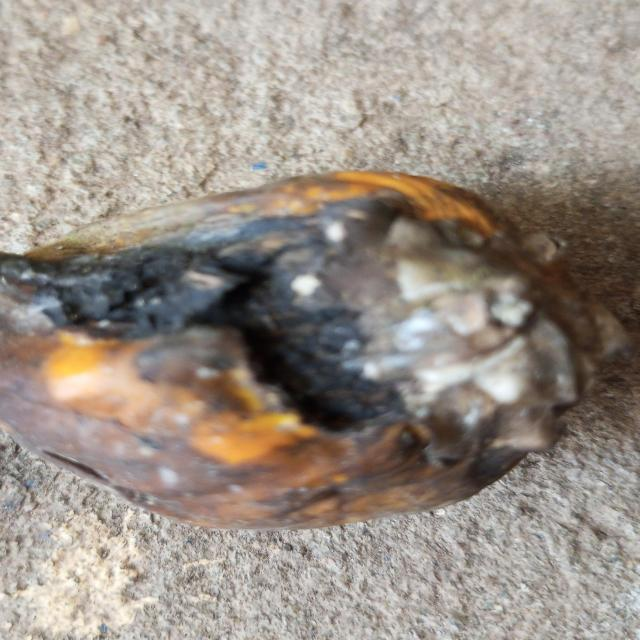damaged: (0, 172, 626, 529)
